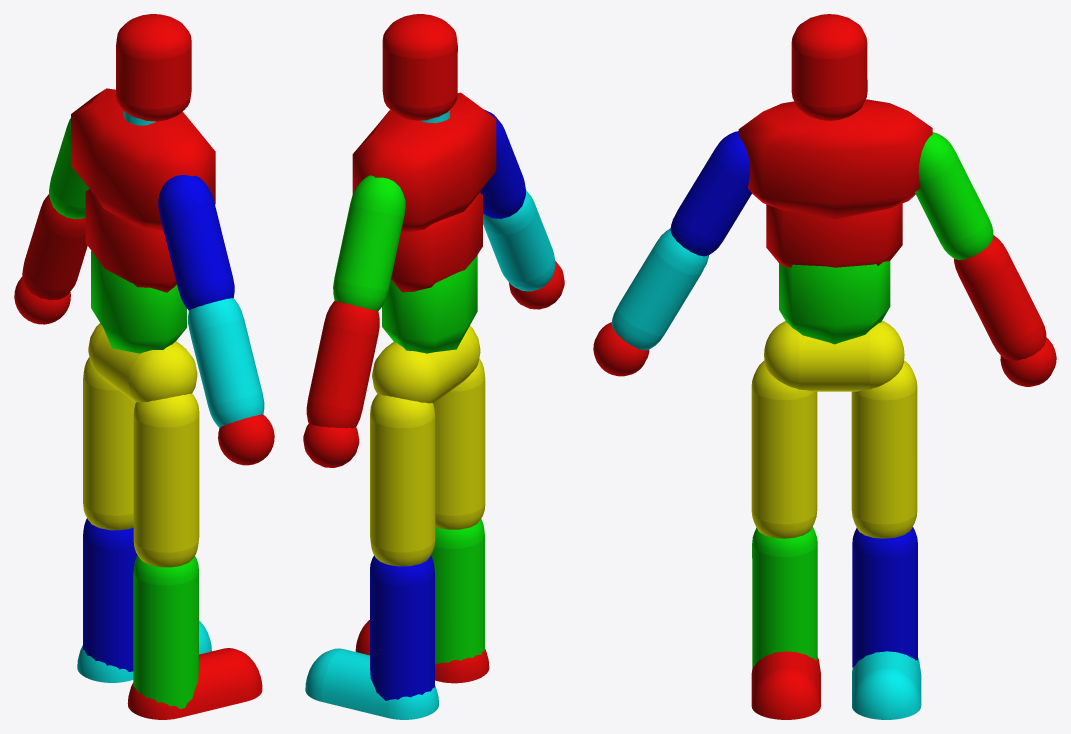
The model's file is Charcter_Done.fbx.
3 renders of one model, left to right at view 1: azimuth 30°, elevation 25°; view 2: azimuth 150°, elevation 25°; view 3: azimuth 270°, elevation 25°, orthographic.
Parts seen in each view (by area): view 1: pSphere77; view 2: pSphere77; view 3: pSphere77.
Boxes of the visible parts, x1=… form: pSphere77: x1=14, y1=14, x2=274, y2=719; pSphere77: x1=303, y1=14, x2=564, y2=719; pSphere77: x1=593, y1=14, x2=1056, y2=719.
Size of the model in its own units: 30.7 by 143 by 90.87.
